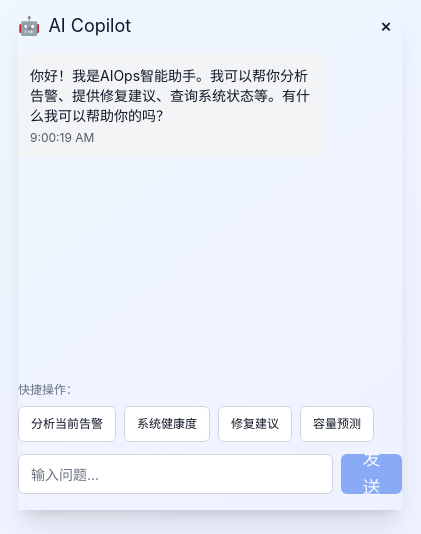
it: AICopilot Component › Message Display › should display assistant messages
Type "Test" into the field with placeholder "输入问题..." at (175, 474), box [18, 454, 333, 494]
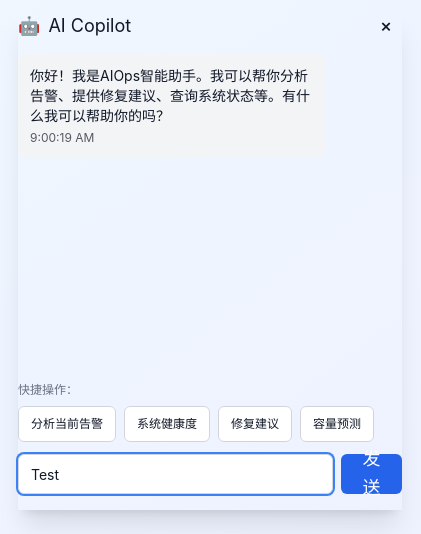
Click the button "发送" at (371, 474), box [341, 454, 402, 494]
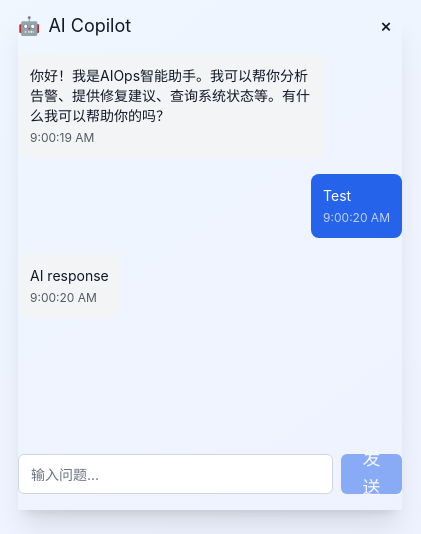
Expected: the text "AI response" is shown, [30, 266, 109, 286]
